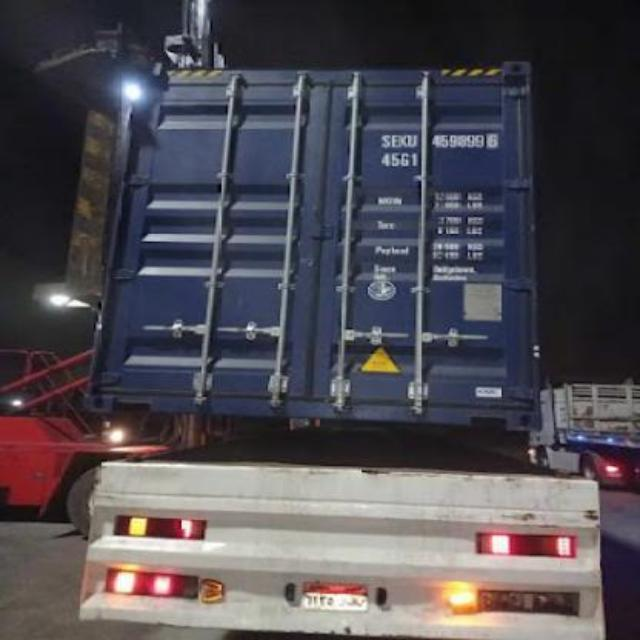4: (432, 132, 442, 152)
5: (442, 132, 450, 152)
6: (486, 132, 499, 150)
8: (456, 132, 468, 152)
9: (466, 132, 476, 156), (476, 132, 484, 154), (450, 130, 456, 154)
E: (390, 130, 402, 150)
K: (398, 132, 406, 150)
S: (380, 130, 390, 154)
U: (406, 132, 418, 152)
